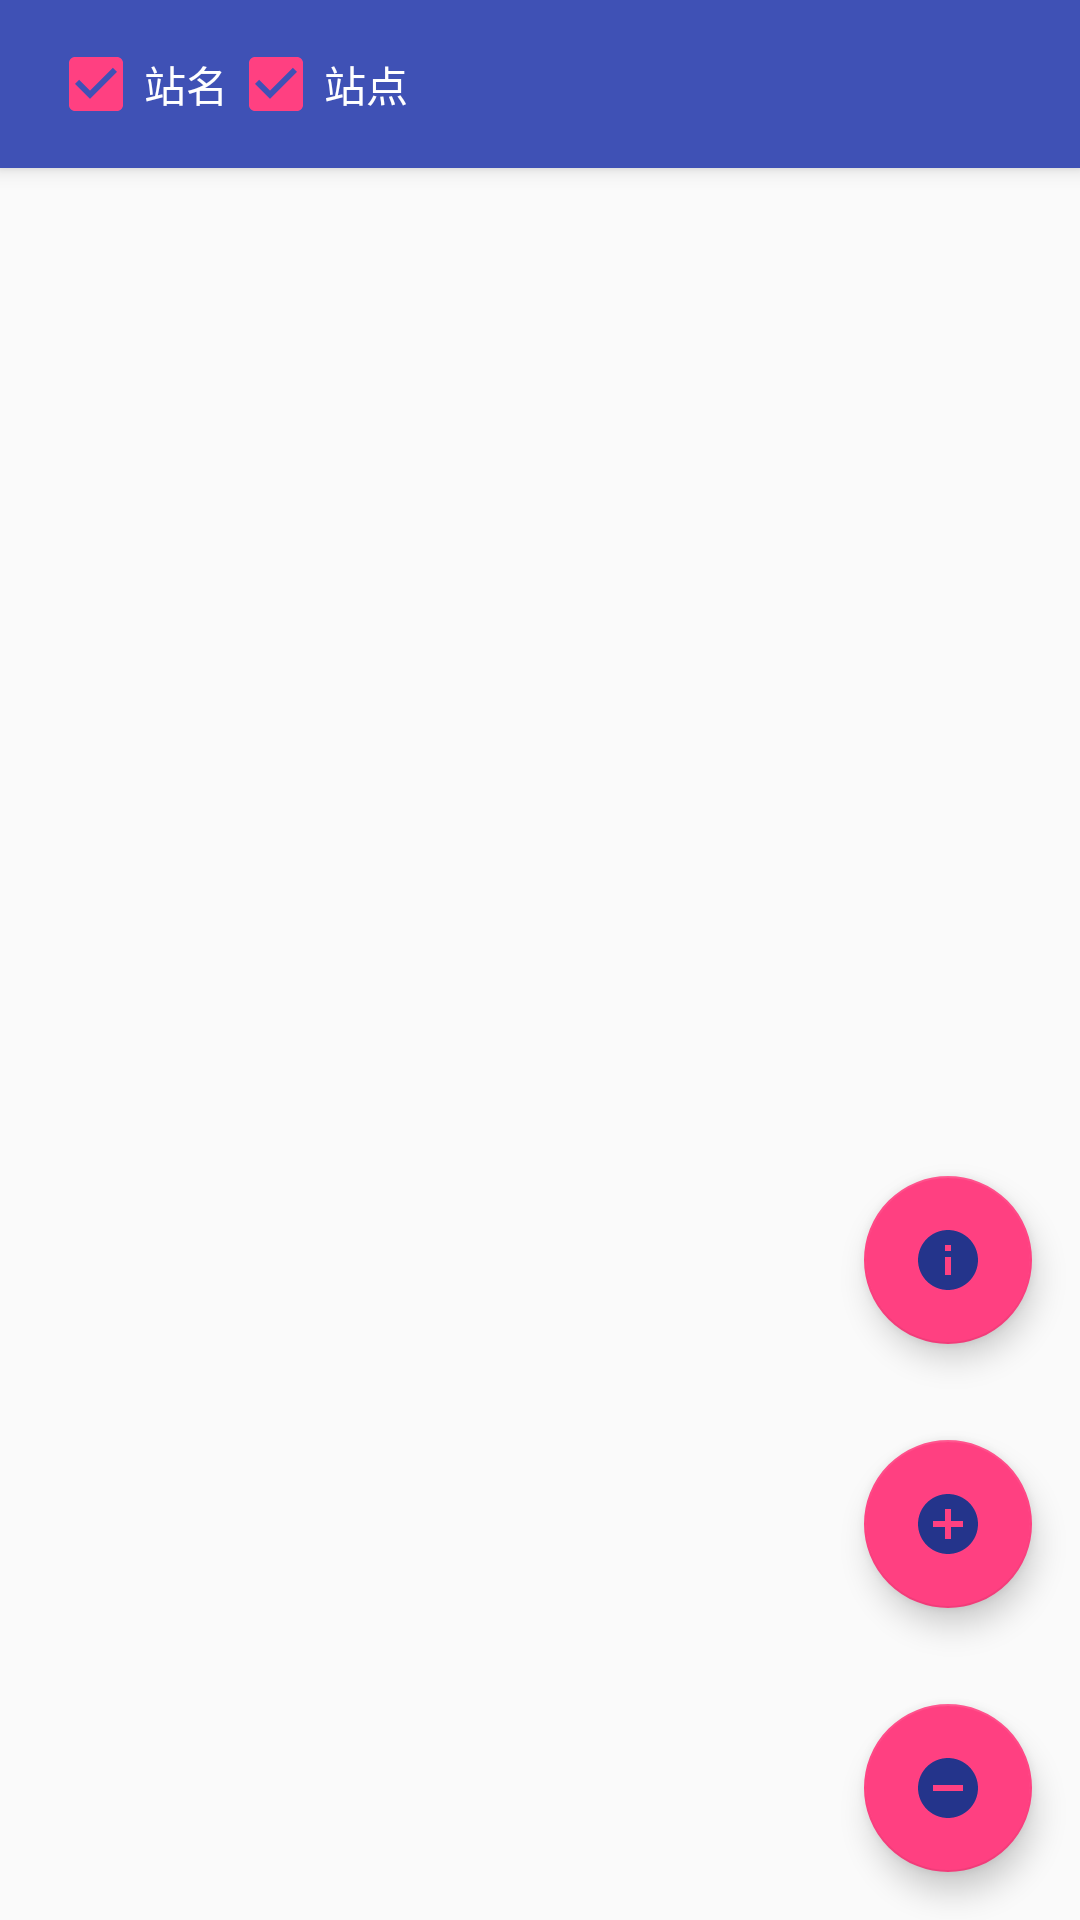

Screen size 1080×1920. Icon name, then its box in pixels as (x1, y1, x2, y2):
expand: (864, 1440, 1032, 1608)
info: (864, 1176, 1032, 1344)
reduce: (864, 1704, 1032, 1872)
